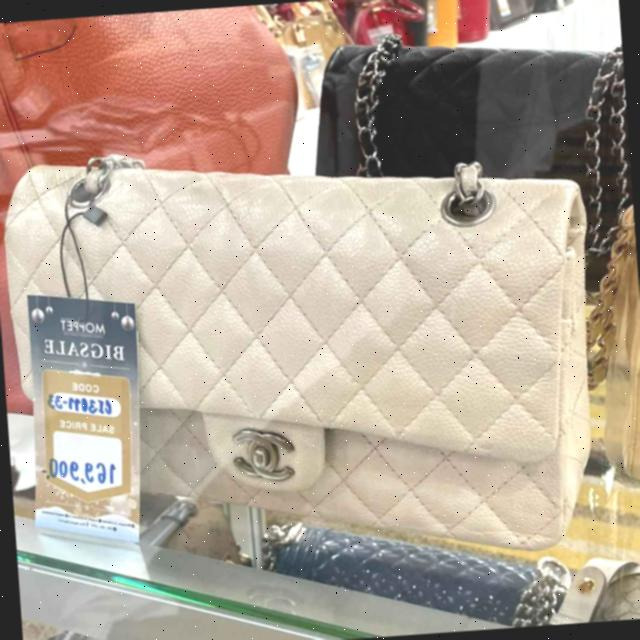handbag: (0, 113, 608, 587)
